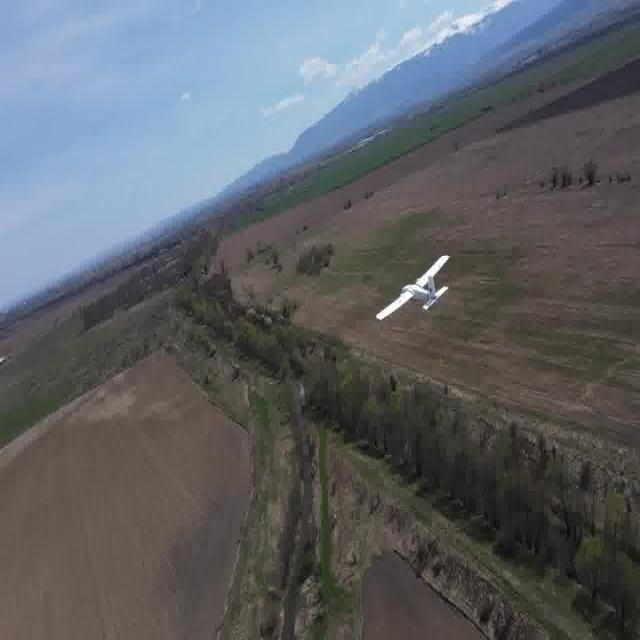iha: (403, 278, 421, 303)
